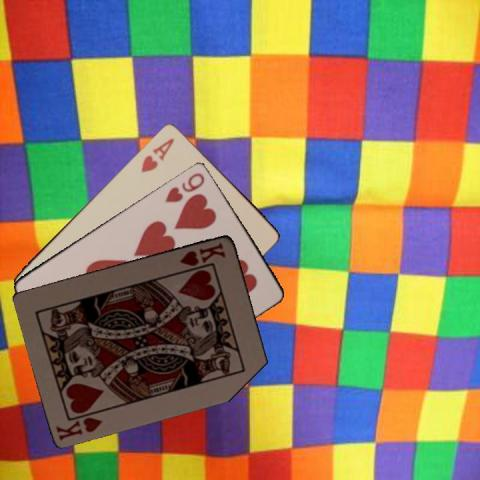9h: (161, 169, 207, 204)
Ah: (137, 134, 176, 173)
Kh: (53, 413, 104, 442), (177, 239, 227, 268)
